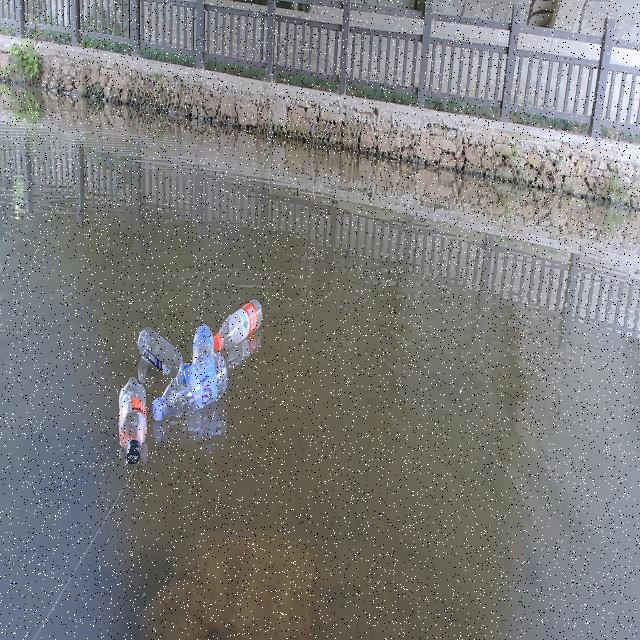Bottle: (151, 354, 229, 424), (135, 323, 191, 381), (116, 372, 149, 469), (213, 288, 264, 348)
Can: (190, 321, 213, 361)
